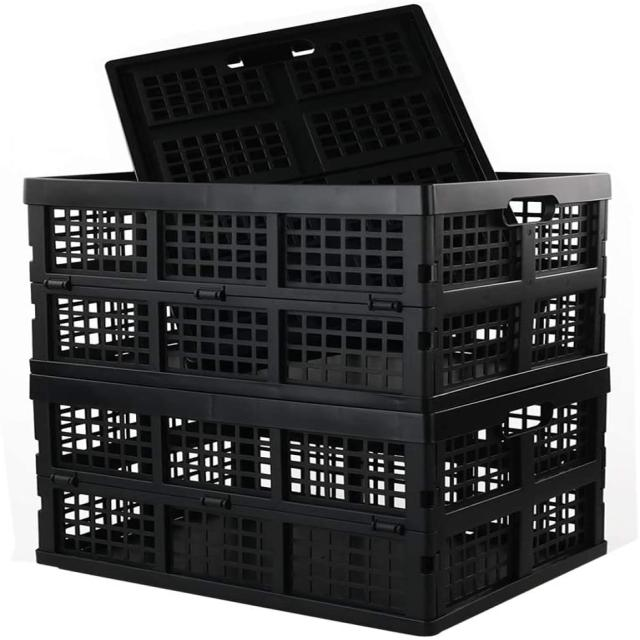basket: (22, 4, 612, 636)
